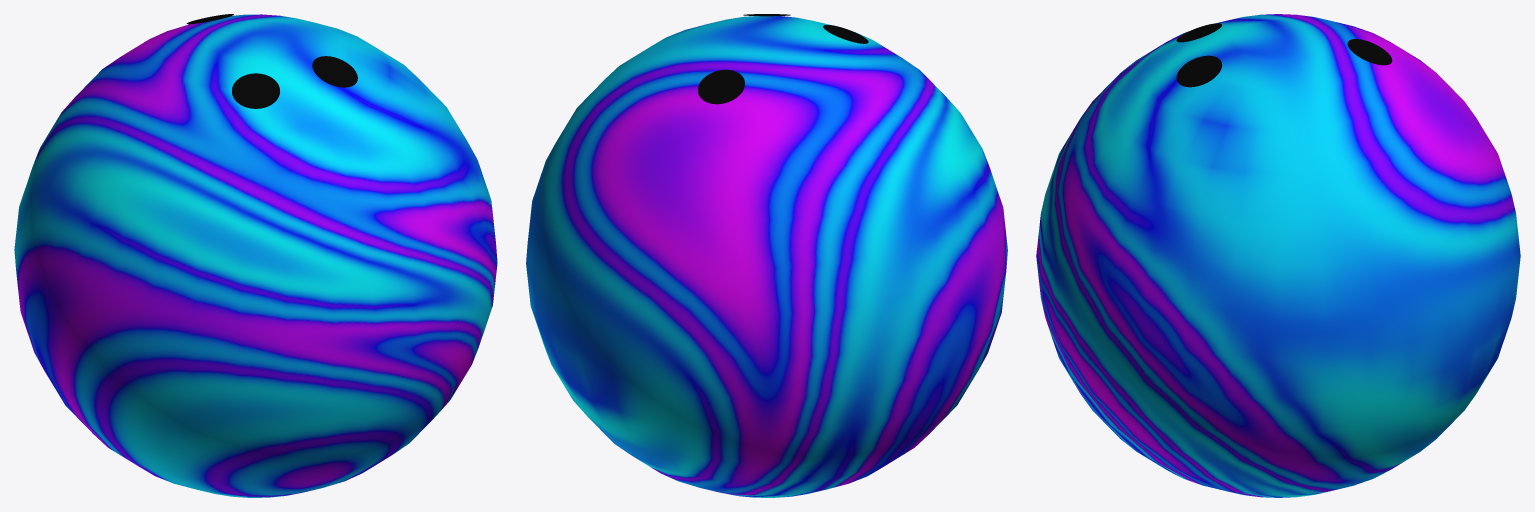
Rendered from ball_purpleWave.gltf.
3 views of the same model, side by side, from view 1: azimuth 30°, elevation 25°; view 2: azimuth 150°, elevation 25°; view 3: azimuth 270°, elevation 25° (orthographic).
Visible parts, largest first — view 1: purpleWave; view 2: purpleWave; view 3: purpleWave.
Boxes of the visible parts, x1=… form: purpleWave: x1=14, y1=14, x2=497, y2=497; purpleWave: x1=526, y1=14, x2=1007, y2=497; purpleWave: x1=1036, y1=14, x2=1520, y2=497.
Bounding box in the file's own units: 0.25 × 0.25 × 0.25.
2 materials, 1 textured.
